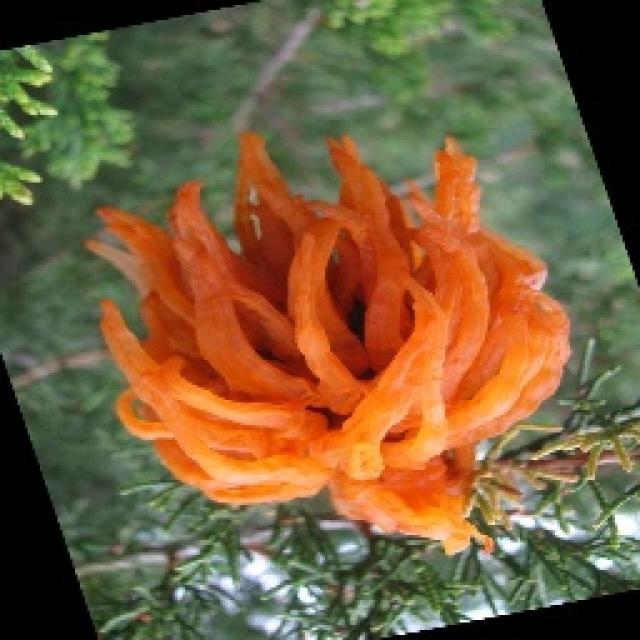Gymnosporangium_Rusts: (82, 128, 572, 558)
